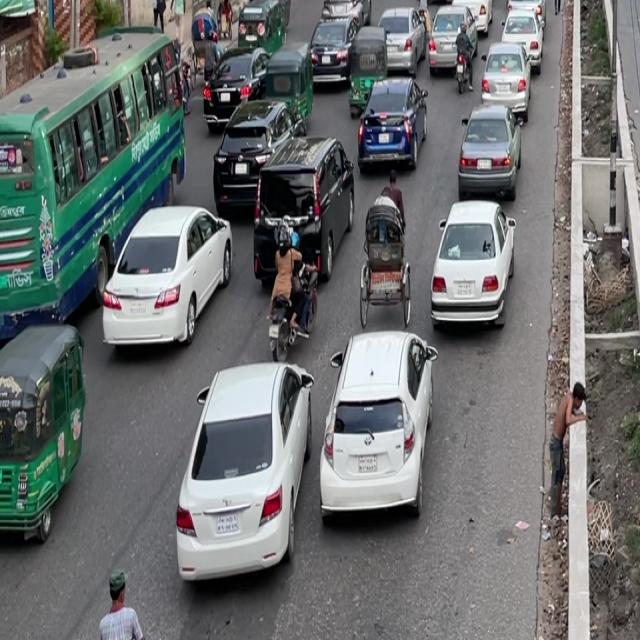car: (162, 350, 324, 598), (307, 313, 447, 535), (93, 186, 240, 369), (425, 186, 522, 347), (353, 184, 416, 336), (452, 94, 522, 206), (355, 71, 426, 181), (478, 36, 535, 126), (304, 9, 357, 90), (423, 6, 469, 86), (374, 0, 423, 75), (500, 0, 545, 69), (317, 0, 371, 34), (449, 0, 492, 39), (505, 0, 545, 9)
motorbike: (264, 235, 319, 359)
rickshaw: (0, 313, 97, 561), (266, 45, 316, 129), (347, 24, 388, 114), (424, 0, 458, 8)
